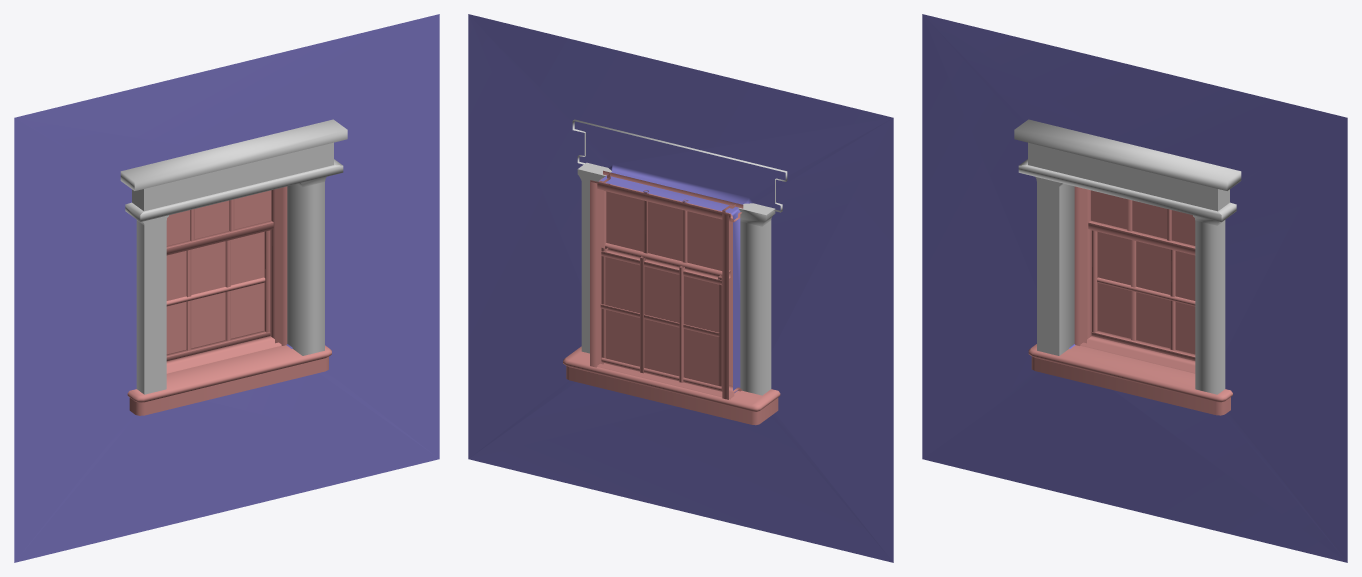
The model's file is window_07.fbx.
3 views of the same model, side by side, from view 1: azimuth 30°, elevation 25°; view 2: azimuth 150°, elevation 25°; view 3: azimuth 330°, elevation 25° (orthographic).
Parts seen in each view (by area): view 1: Plane.027, Plane.028, Cube.042; view 2: Plane.027, Plane.028, Cube.042; view 3: Plane.027, Plane.028, Cube.042.
Part boxes in pixels (box(x1,y1,x2,y2)): Plane.027: box(14, 14, 439, 562); Plane.028: box(127, 186, 331, 415); Cube.042: box(120, 119, 347, 394); Plane.027: box(468, 14, 893, 562); Plane.028: box(563, 170, 780, 425); Cube.042: box(572, 119, 787, 395); Plane.027: box(922, 14, 1347, 562); Plane.028: box(1028, 186, 1232, 415); Cube.042: box(1014, 119, 1241, 394).
Bounding box in the file's own units: 4 × 4 × 0.6045.
